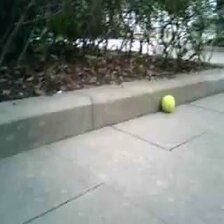tennis: (161, 95, 176, 110)
